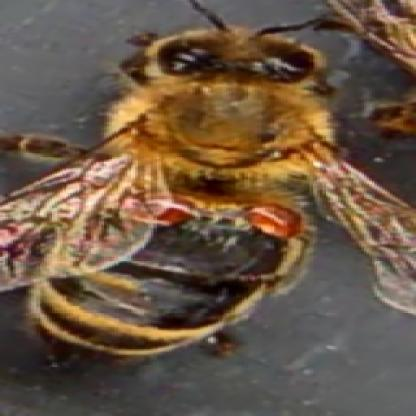bee: (59, 26, 313, 350)
vaoora: (134, 193, 188, 230), (250, 202, 300, 238)
